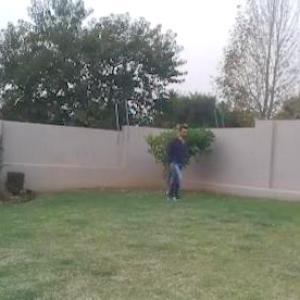follow: (165, 120, 189, 203)
